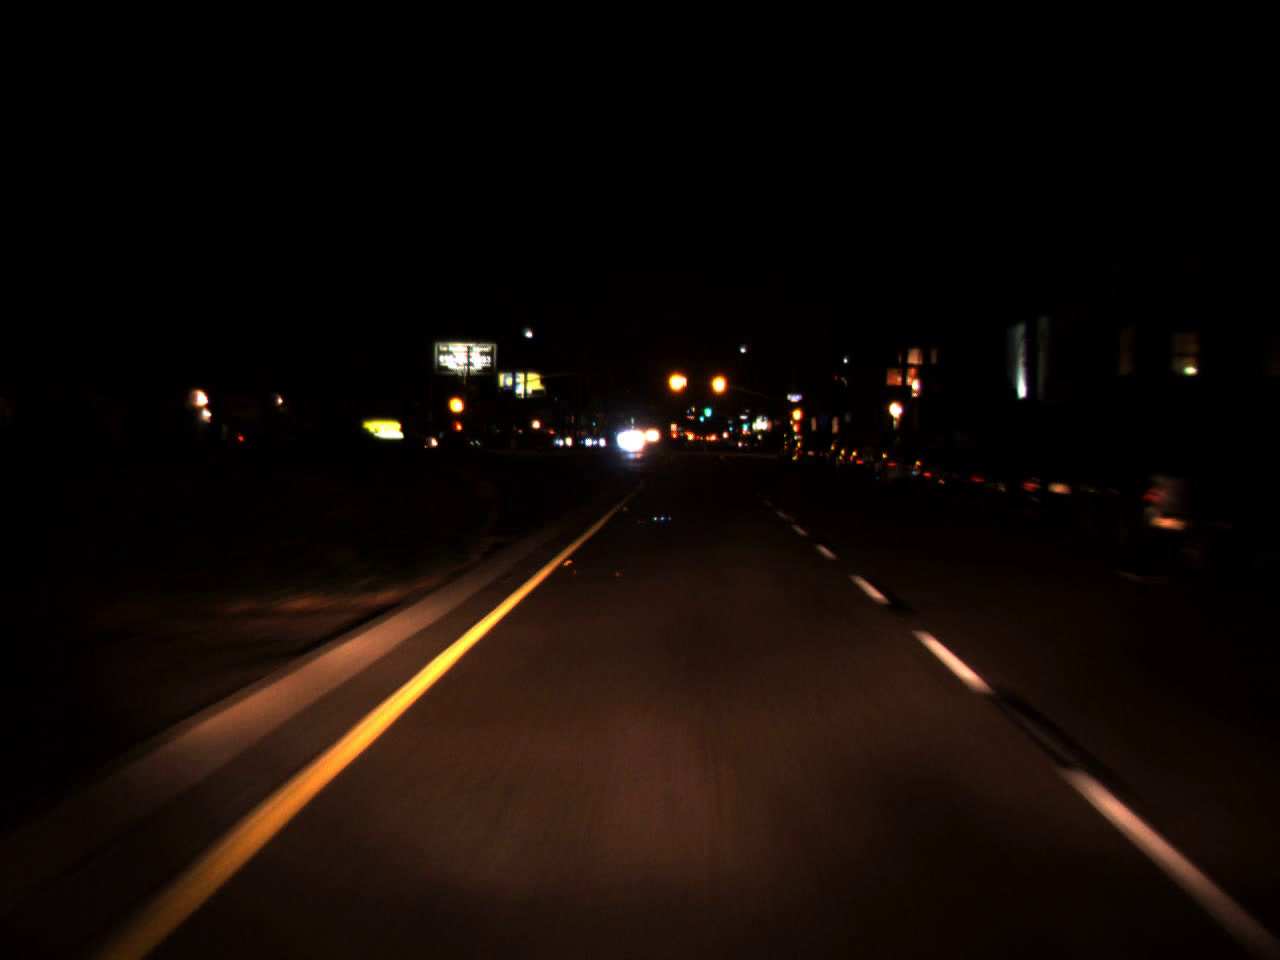go: (703, 401, 712, 419), (740, 424, 747, 436), (697, 411, 703, 423)
warning: (665, 360, 687, 402), (708, 362, 729, 404), (446, 386, 465, 421), (791, 402, 803, 427)
